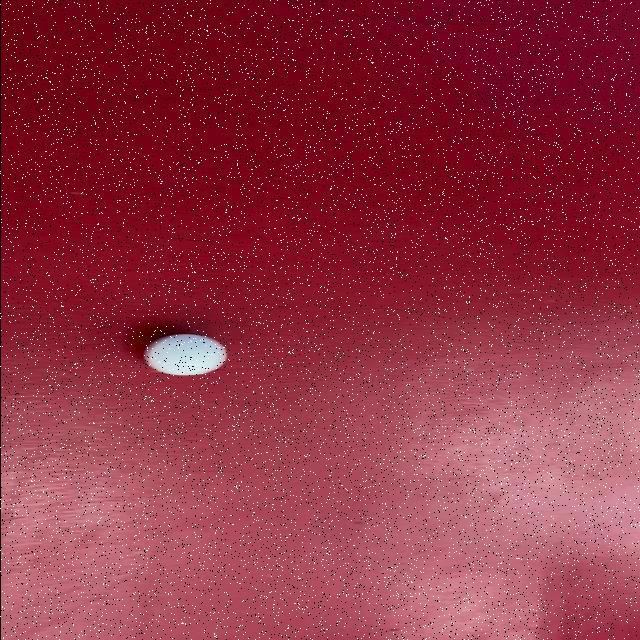ping-pong-ball: (132, 321, 239, 382)
